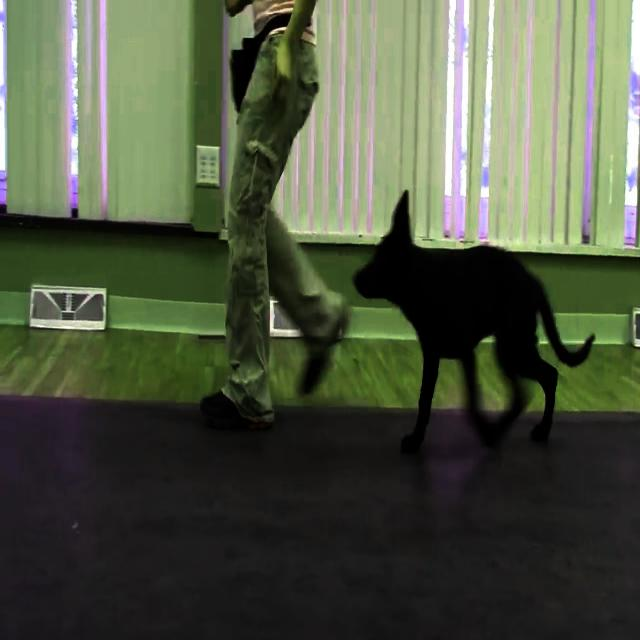Unleashed_Dog: (261, 36, 595, 455)
